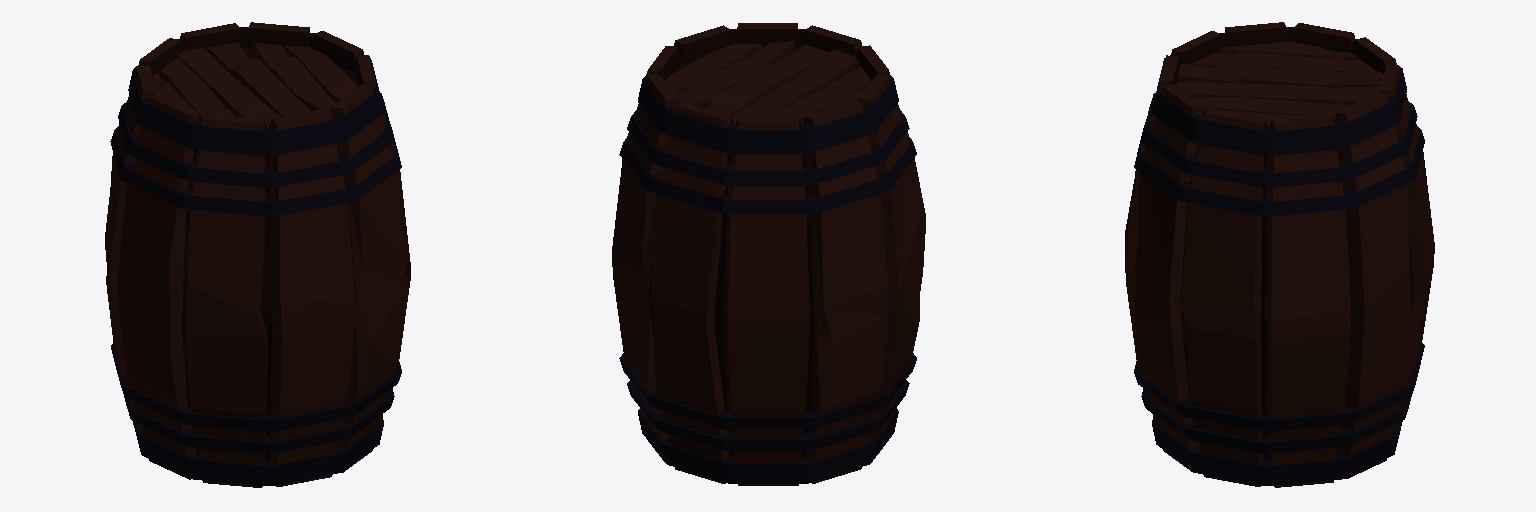
The model's file is Barrel.obj.
The picture shows the model from 3 angles: view 1: azimuth 30°, elevation 25°; view 2: azimuth 150°, elevation 25°; view 3: azimuth 270°, elevation 25°; orthographic projection.
Parts seen in each view (by area): view 1: Barrel_Cylinder.015; view 2: Barrel_Cylinder.015; view 3: Barrel_Cylinder.015.
Part boxes in pixels (x1,y1,x2,y2): Barrel_Cylinder.015: (105, 22, 410, 487); Barrel_Cylinder.015: (612, 23, 925, 485); Barrel_Cylinder.015: (1125, 22, 1434, 487).
Size of the model in its own units: 1.04 by 1.35 by 1.03.